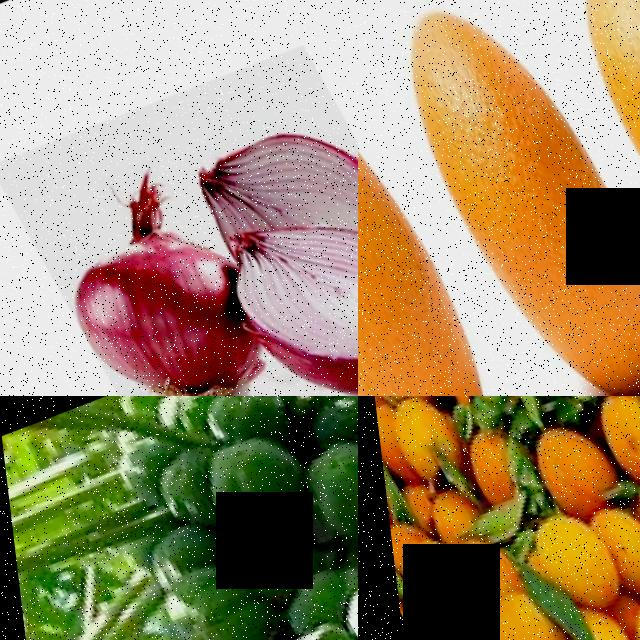onion: (24, 190, 273, 396), (166, 81, 358, 269), (205, 188, 358, 396)
orange: (358, 0, 640, 396), (358, 32, 534, 396), (520, 0, 640, 364), (514, 499, 622, 616), (516, 411, 622, 521), (458, 569, 576, 640), (376, 396, 463, 481), (383, 529, 466, 616), (401, 589, 503, 640), (579, 396, 640, 480), (612, 447, 640, 569)
pawpaw: (179, 415, 319, 553), (285, 410, 358, 549), (313, 537, 358, 640), (249, 599, 358, 640)
